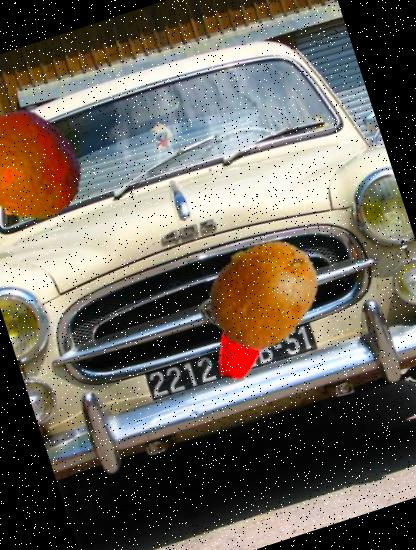Kiwi: (190, 220, 338, 368)
Mandarine: (0, 92, 99, 236)
Tomato: (197, 300, 285, 388)
